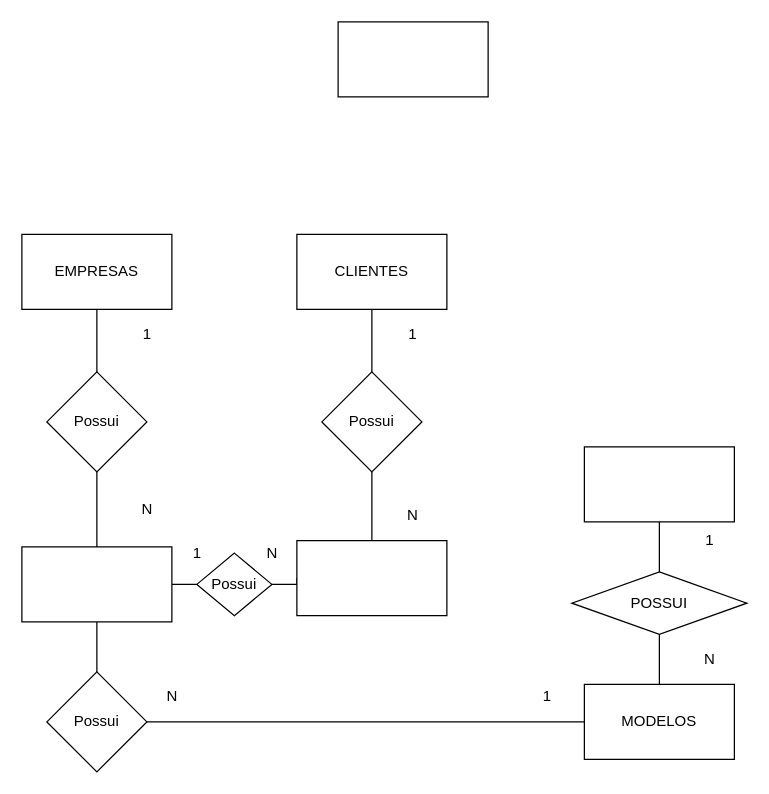
This 769x794 diagram has some shape labels left out. The shapes that lost their labels are listed below. From the top down, each one's centre as x and y in pixels, then its label:
At [412,59]: "CONCEITUAL".
At [658,484]: "MARCAS".
At [96,584]: "VEICULOS".
At [371,577]: "ALUGUEIS".
